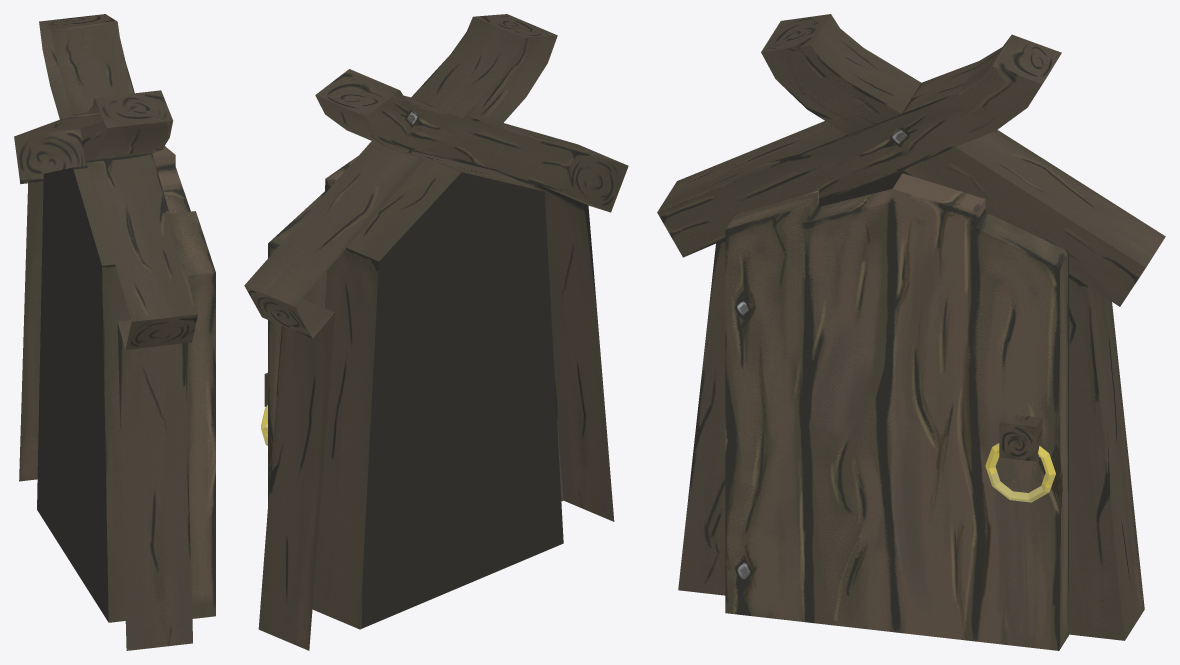
Rendered from polysurface526_txt_porte_new1_0_lev1_lev2.glb.
3 renders of one model, left to right at view 1: azimuth 30°, elevation 25°; view 2: azimuth 150°, elevation 25°; view 3: azimuth 270°, elevation 25°, orthographic. The views are drawn at different scales.
Visible parts, largest first — view 1: polysurface526_txt_porte_new1_0_lev1_lev2; view 2: polysurface526_txt_porte_new1_0_lev1_lev2; view 3: polysurface526_txt_porte_new1_0_lev1_lev2.
Boxes of the visible parts, x1,y1,x2,y2 form: polysurface526_txt_porte_new1_0_lev1_lev2: (14,14,215,650); polysurface526_txt_porte_new1_0_lev1_lev2: (244,14,628,650); polysurface526_txt_porte_new1_0_lev1_lev2: (657,14,1165,650).
Bounding box in the file's own units: 1.04 × 2.65 × 2.18.
1 material, 1 textured.
